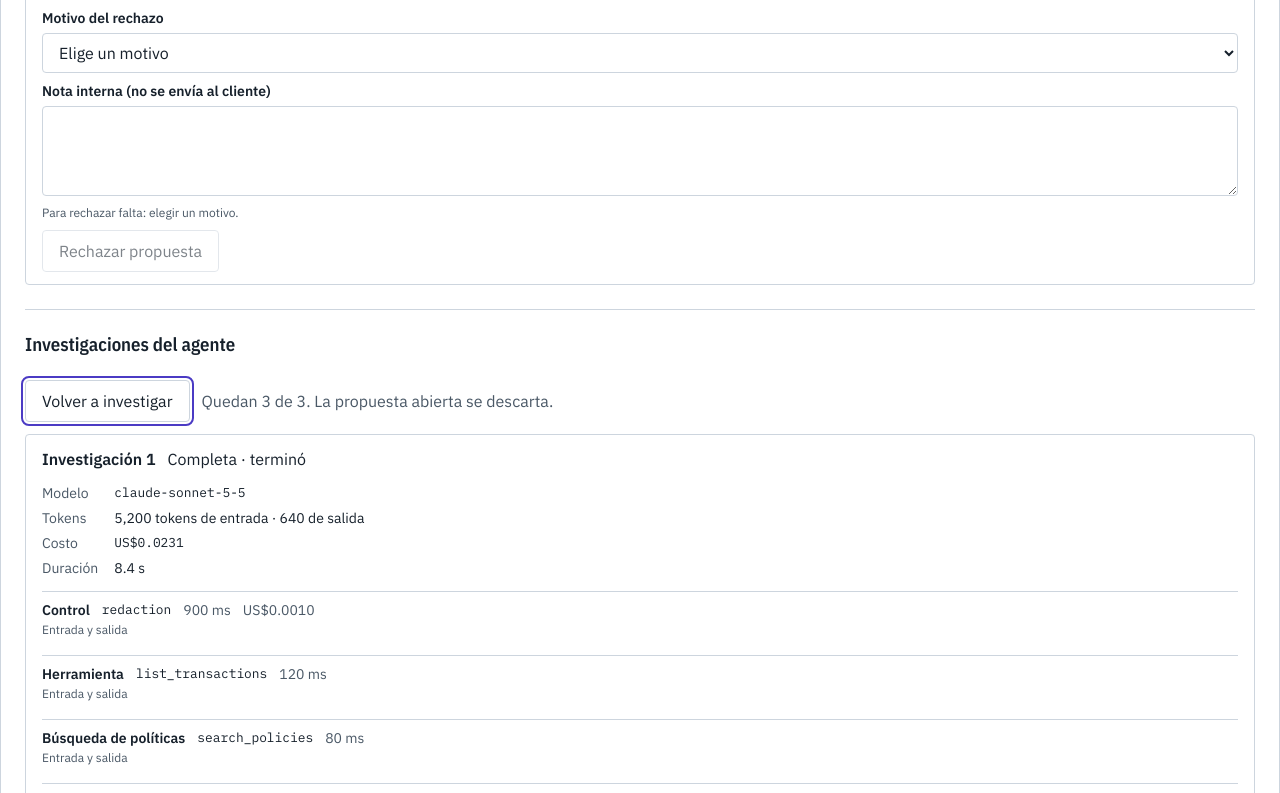
run again (02 G3 re-runs, at most 3) › moves focus to the case heading once the case is back with the agent
(page scrolled)
Click the button "Volver a investigar".
click(107, 400)  # box [25,380,190,422]
(page scrolled)
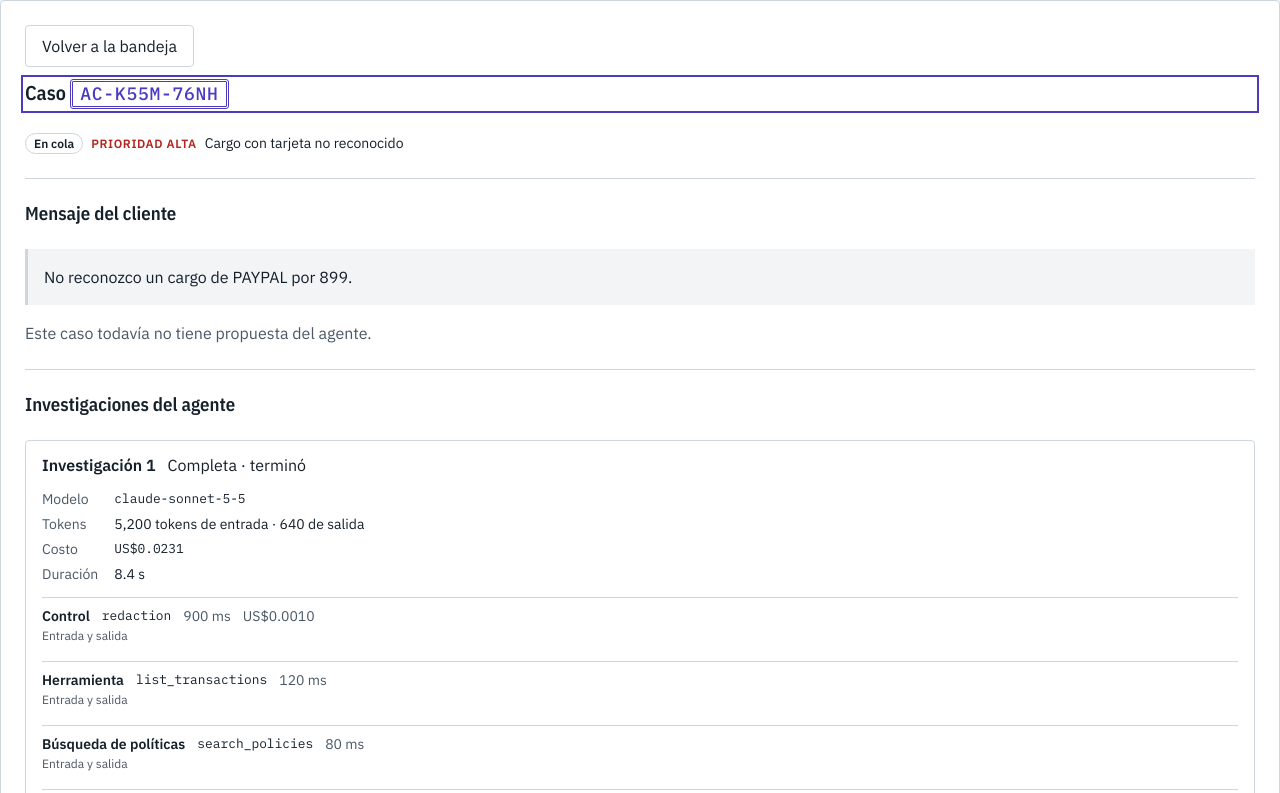
Check: the button "Volver a investigar" is gone
